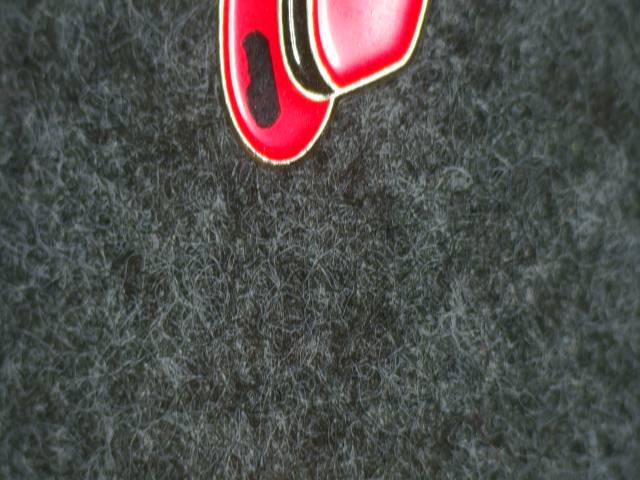Red-Hat: (187, 0, 446, 207)
Scratch: (229, 16, 298, 137)
